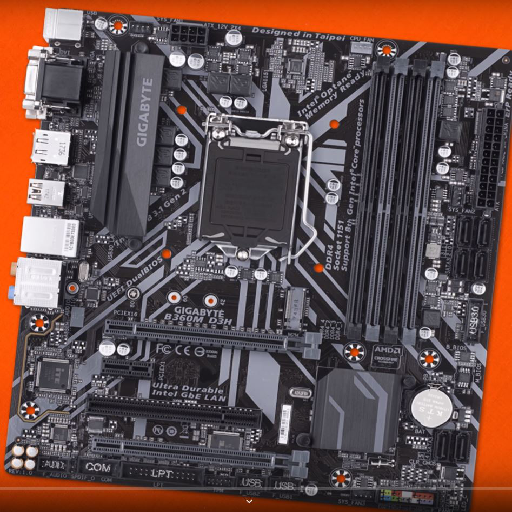CPU: (191, 125, 296, 262)
GPU: (100, 316, 323, 362)
MOTHERBOARD: (3, 4, 511, 512)
RAM: (341, 58, 447, 350)
SSD: (277, 284, 315, 332)
